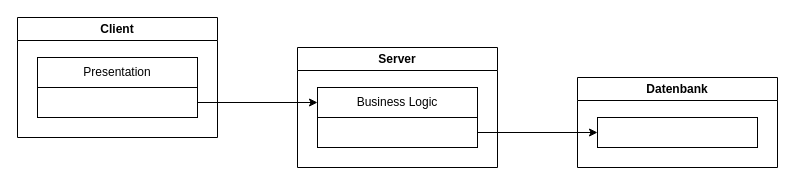
This 795x185 diagram has some shape labels left out. Here are the shapes that lost their labels. From the top down, the centre of each, then its label:
At point 117,102: "User Interface".
At point 397,132: "Data Access".
At point 677,132: "Data Storage".
